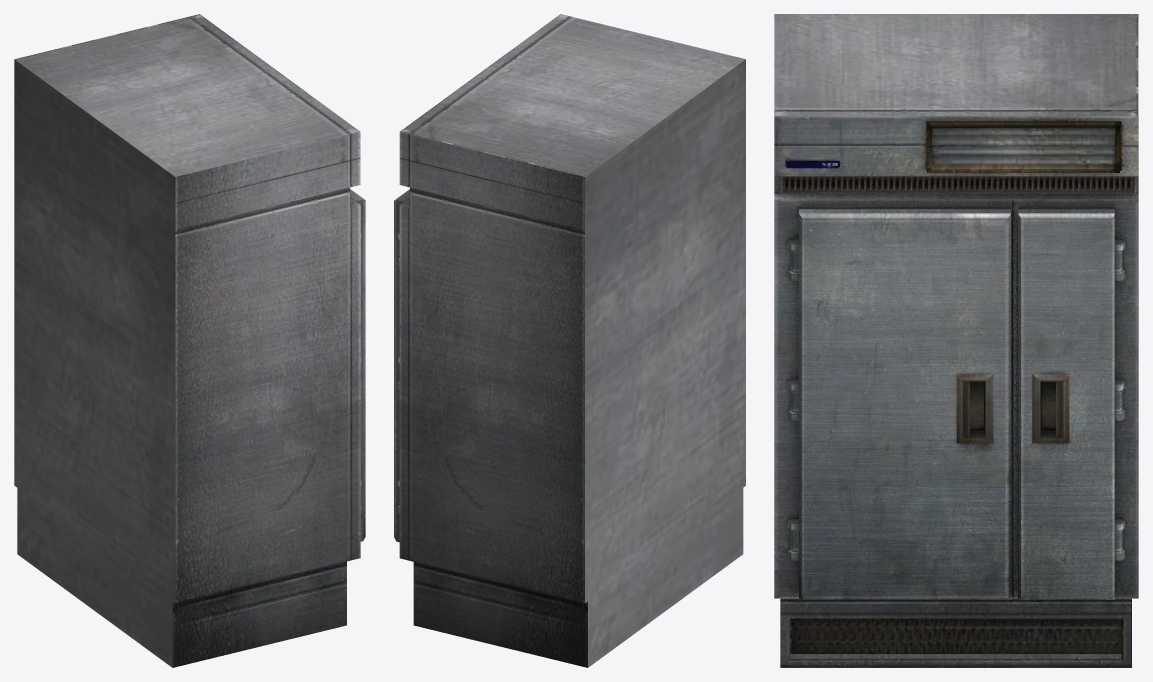
Rendered from kitchen_fridge001a.glb.
3 renders of one model, left to right at view 1: azimuth 30°, elevation 25°; view 2: azimuth 150°, elevation 25°; view 3: azimuth 270°, elevation 25°, orthographic. The views are drawn at different scales.
Parts seen in each view (by area): view 1: 0_prisonkitchen01; view 2: 0_prisonkitchen01; view 3: 0_prisonkitchen01.
Part boxes in pixels (left/top/right/bottom): 0_prisonkitchen01: left=14, top=14, right=365, bottom=667; 0_prisonkitchen01: left=394, top=14, right=745, bottom=667; 0_prisonkitchen01: left=774, top=14, right=1138, bottom=667.
Bounding box in the file's own units: 1.23 × 2.84 × 1.68.
Materials: 1 (1 with a texture image).
